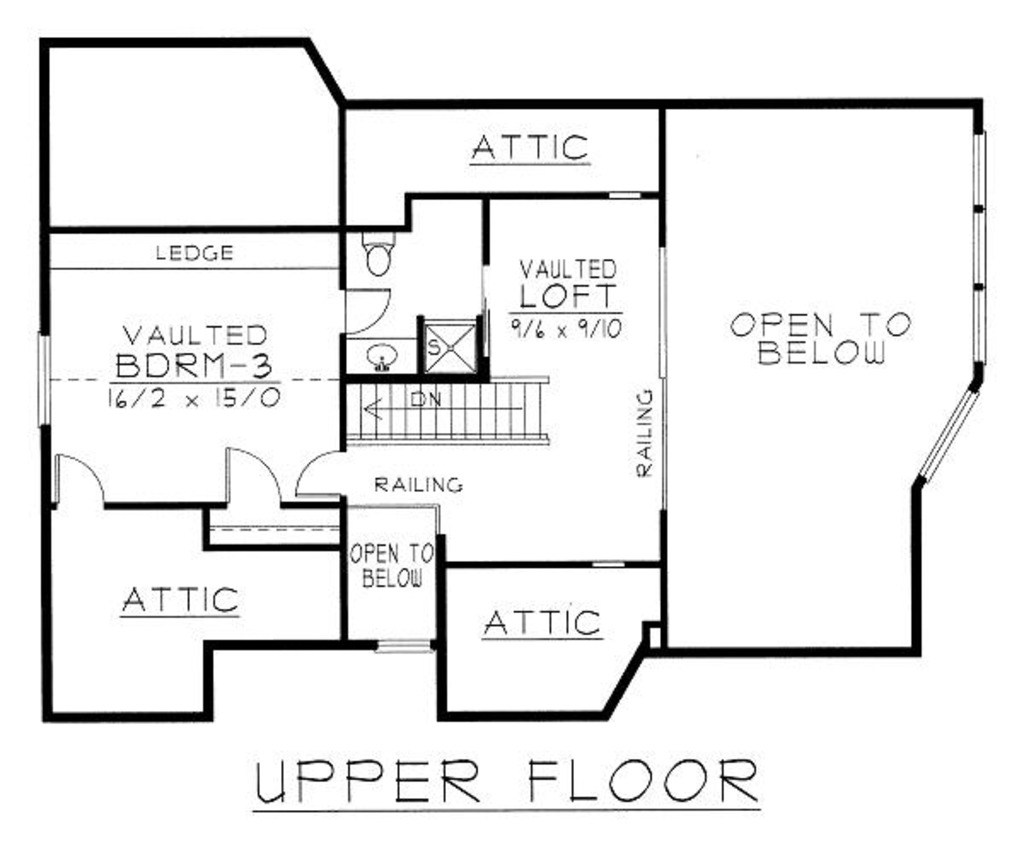door: (51, 446, 119, 506), (218, 451, 286, 506), (338, 286, 397, 338), (294, 447, 346, 499)
large_sink: (357, 225, 398, 281)
small_sink: (347, 341, 411, 376)
stairs: (341, 384, 559, 442)
window: (915, 389, 988, 481), (28, 332, 62, 428), (972, 119, 982, 362), (360, 633, 434, 656)
